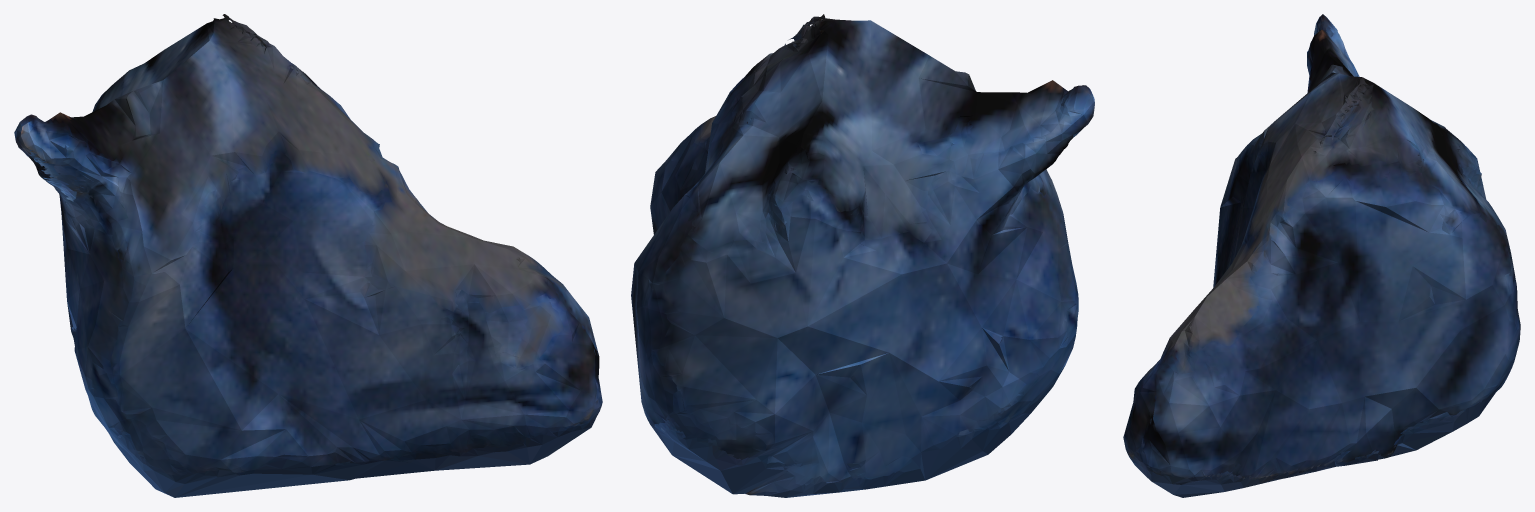
The model's file is skull.obj.
3 renders of one model, left to right at view 1: azimuth 30°, elevation 25°; view 2: azimuth 150°, elevation 25°; view 3: azimuth 270°, elevation 25°, orthographic. The views are drawn at different scales.
Size of the model in its own units: 80.89 by 66.22 by 69.72.
Materials: 1 (1 with a texture image).
